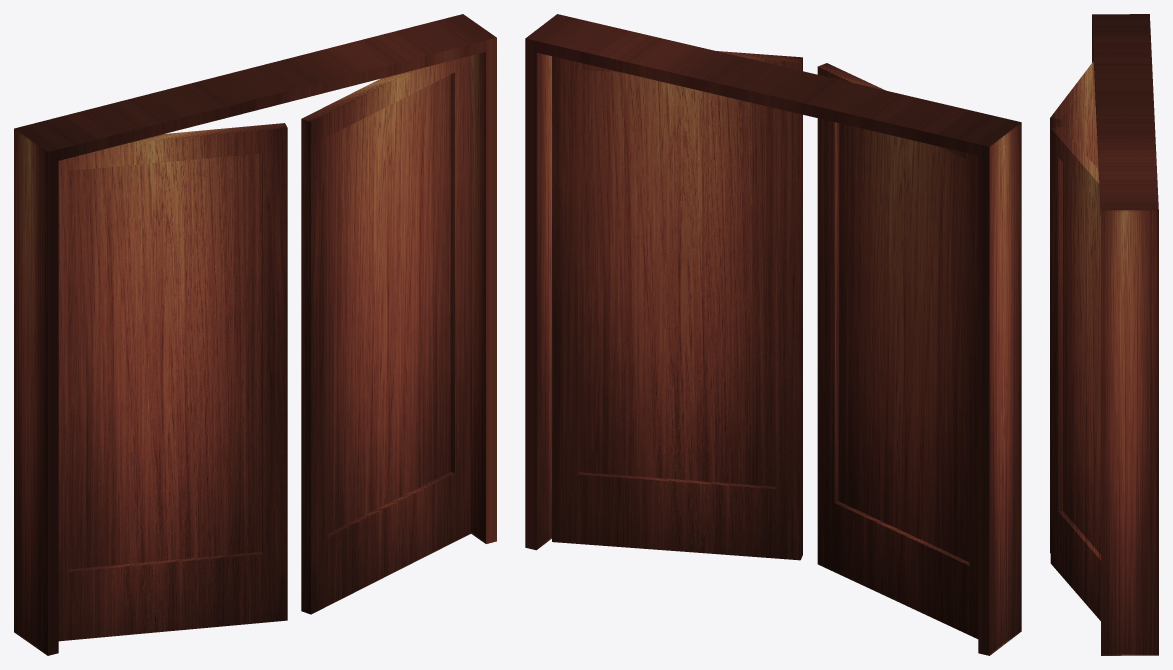
File: Door.FBX
3 renders of one model, left to right at view 1: azimuth 30°, elevation 25°; view 2: azimuth 150°, elevation 25°; view 3: azimuth 270°, elevation 25°, orthographic. The views are drawn at different scales.
Visible parts, largest first — view 1: Object001, Object002, PivotDoor001; view 2: Object002, Object001, PivotDoor001; view 3: PivotDoor001, Object002, Object001.
Part boxes in pixels (left/top/right/bottom): Object001: left=58, top=123, right=287, bottom=641; Object002: left=301, top=56, right=470, bottom=614; PivotDoor001: left=14, top=14, right=496, bottom=655; Object002: left=552, top=51, right=802, bottom=560; Object001: left=817, top=63, right=978, bottom=638; PivotDoor001: left=525, top=14, right=1021, bottom=655; PivotDoor001: left=1092, top=14, right=1158, bottom=655; Object002: left=1050, top=126, right=1100, bottom=620; Object001: left=1050, top=61, right=1098, bottom=553.
Size of the model in its own units: 83.25 by 88.03 by 19.47.
